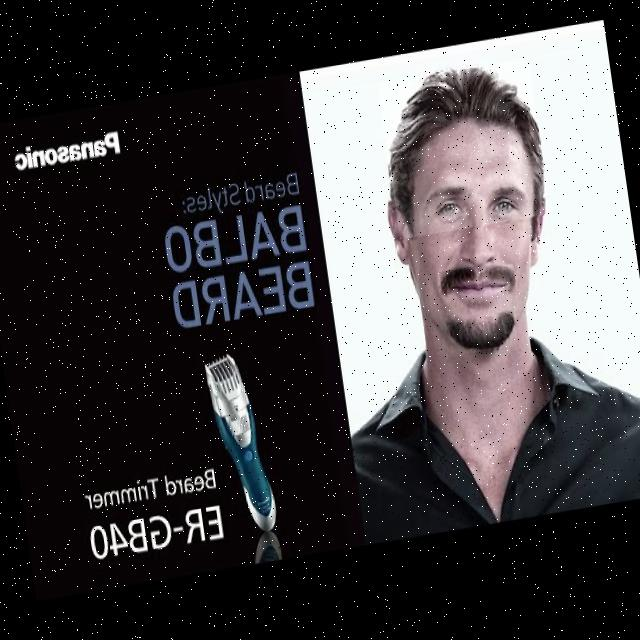beard: (448, 317, 513, 354), (442, 270, 476, 297), (482, 270, 514, 293)
hair: (389, 72, 544, 232)
